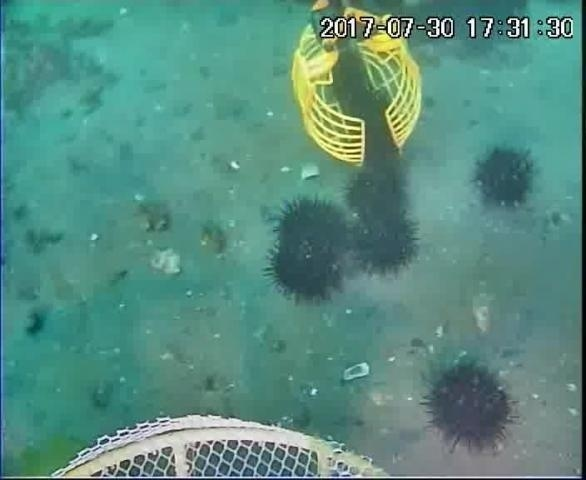echinus: (419, 358, 518, 454), (263, 210, 350, 306), (269, 193, 354, 267), (348, 207, 423, 280), (469, 142, 540, 212), (342, 163, 408, 226)
